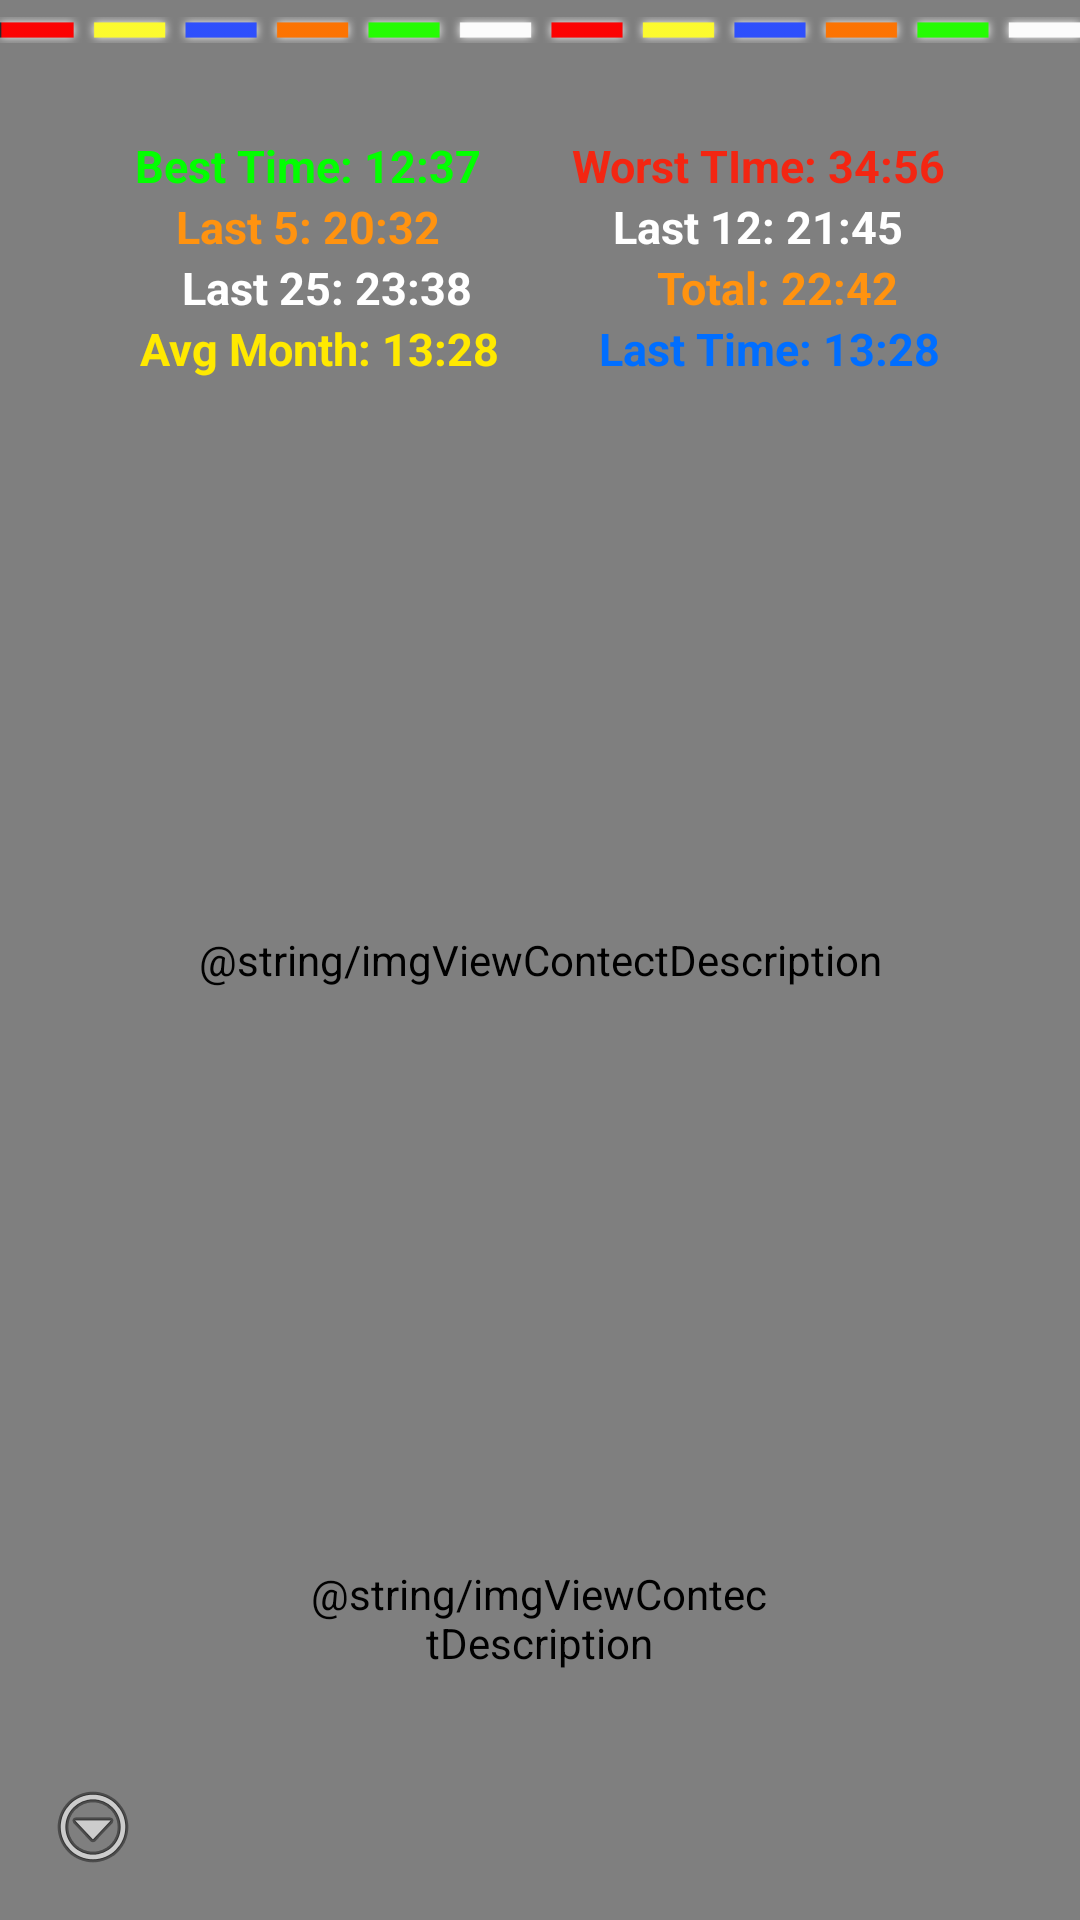

Icons on this 1080px×1920px Android screen, each with its box as (left=x1, top=y1, right=x2, bottom=y2):
more: (left=58, top=1792, right=128, bottom=1862)
